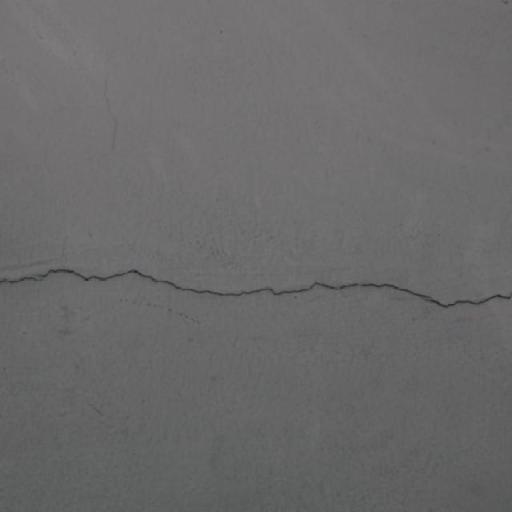severe crack: (0, 242, 512, 320)
